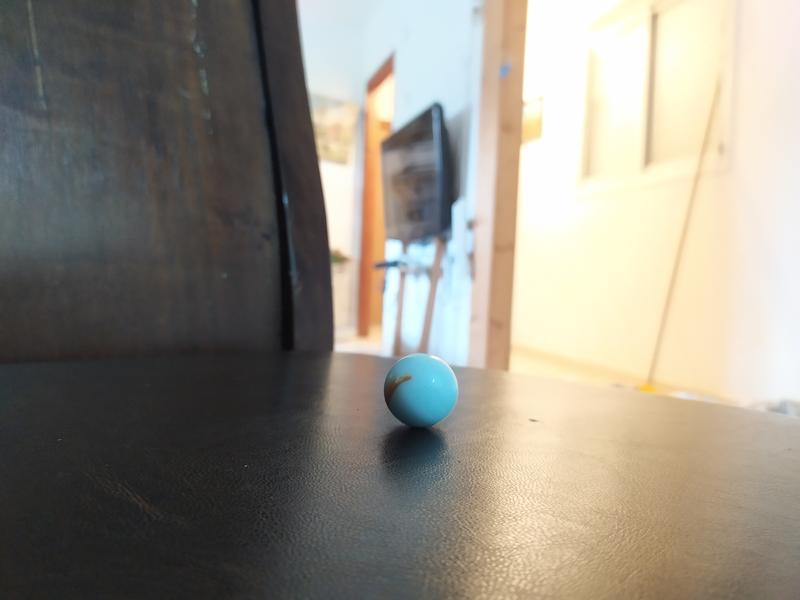Warning: (382, 351, 462, 430)
